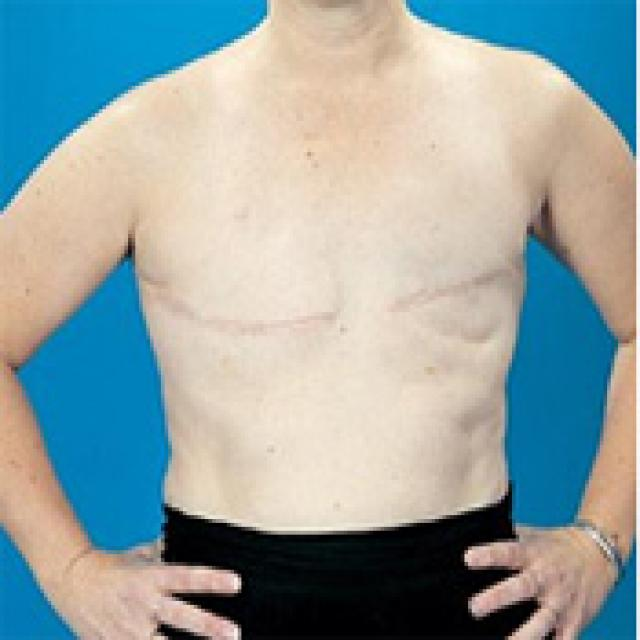Seno herido: (131, 190, 360, 358), (368, 190, 526, 362)
